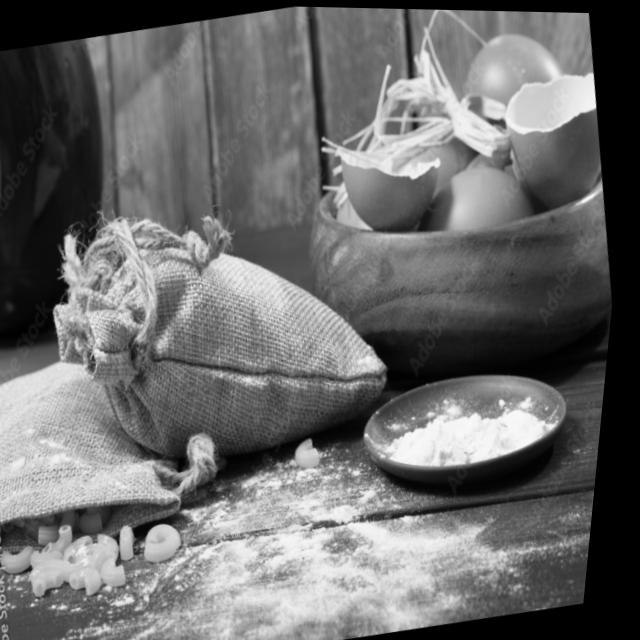sack: (31, 170, 419, 486), (0, 339, 211, 564)
